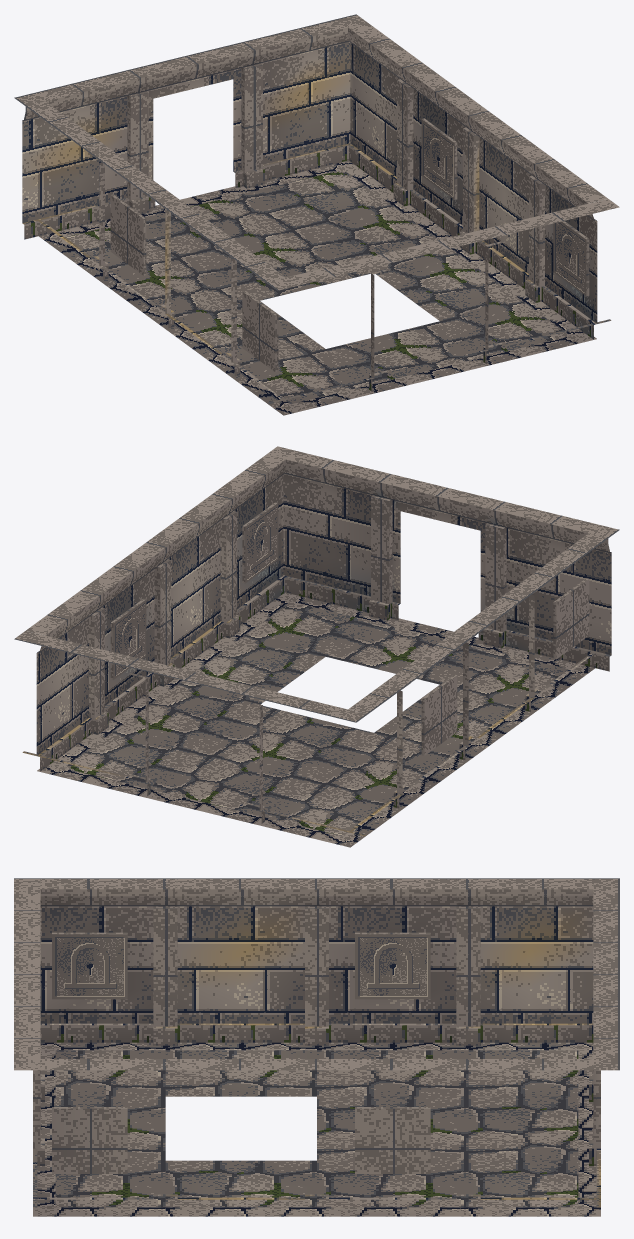
The model's file is dgn.room__boss_hall.glb.
The picture shows the model from 3 angles, top to bottom: view 1: azimuth 30°, elevation 25°; view 2: azimuth 150°, elevation 25°; view 3: azimuth 270°, elevation 25°; orthographic projection. The views are drawn at different scales.
Parts seen in each view (by area): view 1: kit_shell_walls, kit_shell_floor, kit_reliefs; view 2: kit_shell_walls, kit_shell_floor, kit_reliefs; view 3: kit_shell_walls, kit_shell_floor, kit_reliefs.
Boxes of the visible parts, left/top/right/bottom form: kit_shell_walls: left=14, top=14, right=619, bottom=403; kit_shell_floor: left=39, top=160, right=596, bottom=415; kit_reliefs: left=110, top=118, right=589, bottom=372; kit_shell_walls: left=14, top=446, right=619, bottom=835; kit_shell_floor: left=37, top=592, right=594, bottom=847; kit_reliefs: left=110, top=502, right=589, bottom=755; kit_shell_walls: left=14, top=878, right=619, bottom=1207; kit_shell_floor: left=33, top=1042, right=600, bottom=1216; kit_reliefs: left=52, top=932, right=430, bottom=1173.
Bounding box in the file's own units: 12 × 4.5 × 16.
6 materials, 6 textured.
